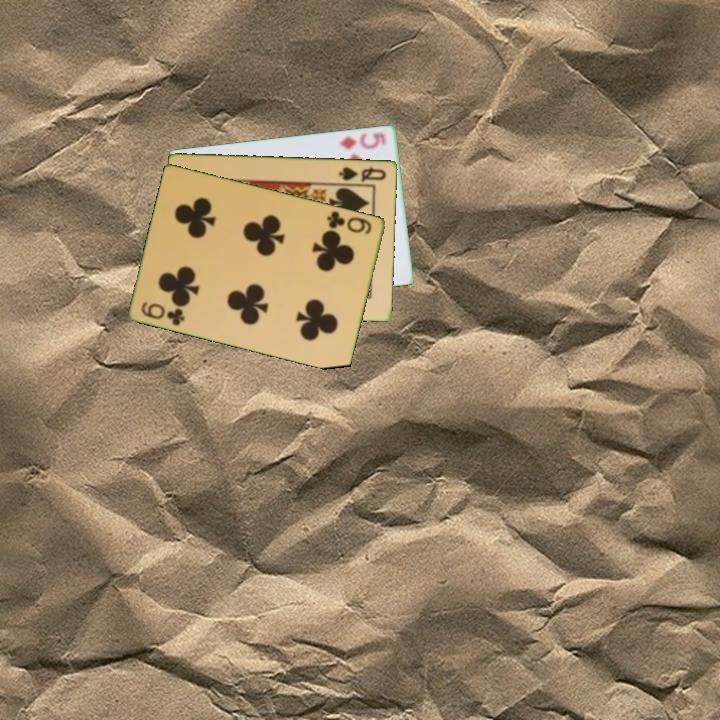5d: (336, 128, 389, 152)
6c: (324, 207, 375, 237), (138, 298, 188, 328)
Qs: (335, 163, 389, 184)
